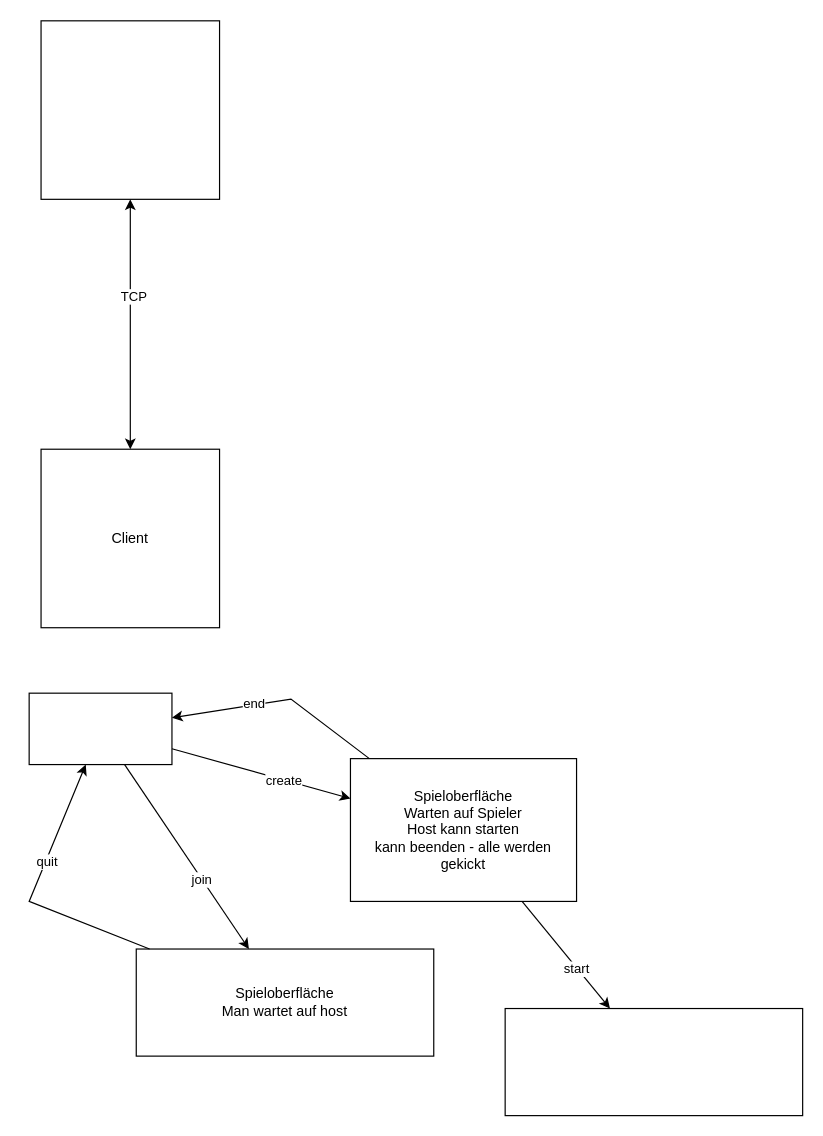
Some shapes in this 823 by 1136 pixel diagram are drawn without their labels. The shapes that lost their labels are listed below. From the top down, each one's box as (x1, y1, x2, y2) in pixels, then its label:
(40, 20, 220, 199): Server
(28, 692, 172, 765): Hauptmenü create game join game
